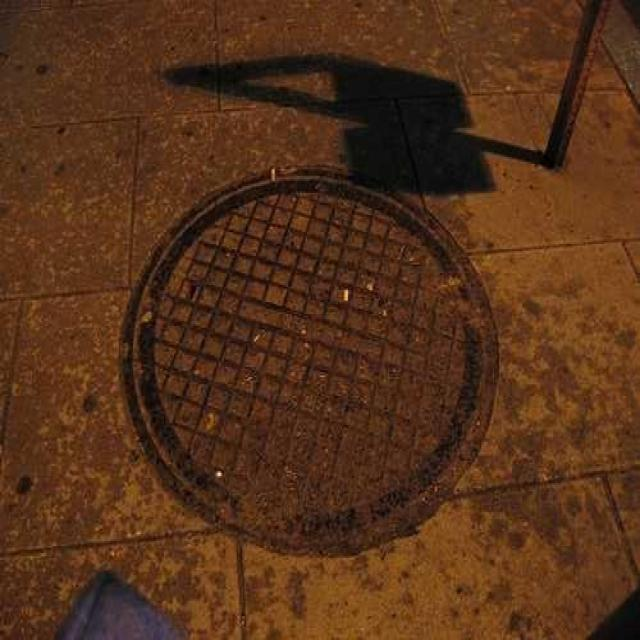manhole: (125, 170, 498, 552)
